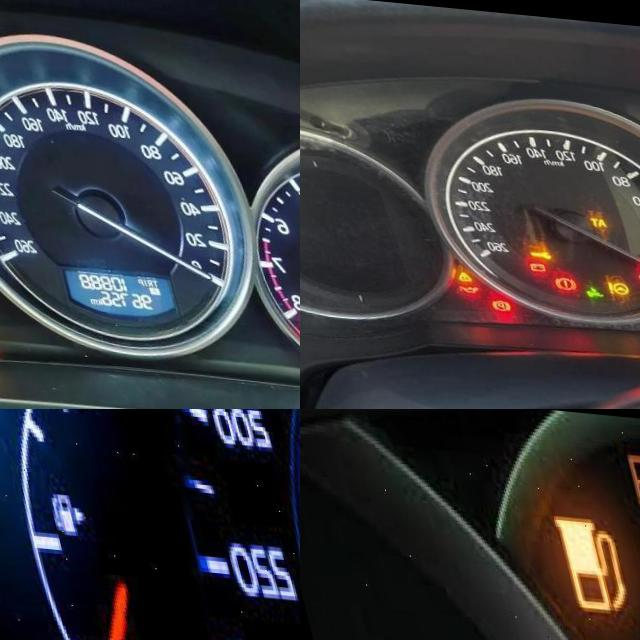Electronic Power Steering: (594, 271, 618, 288)
Seat Belt: (286, 307, 300, 326)
